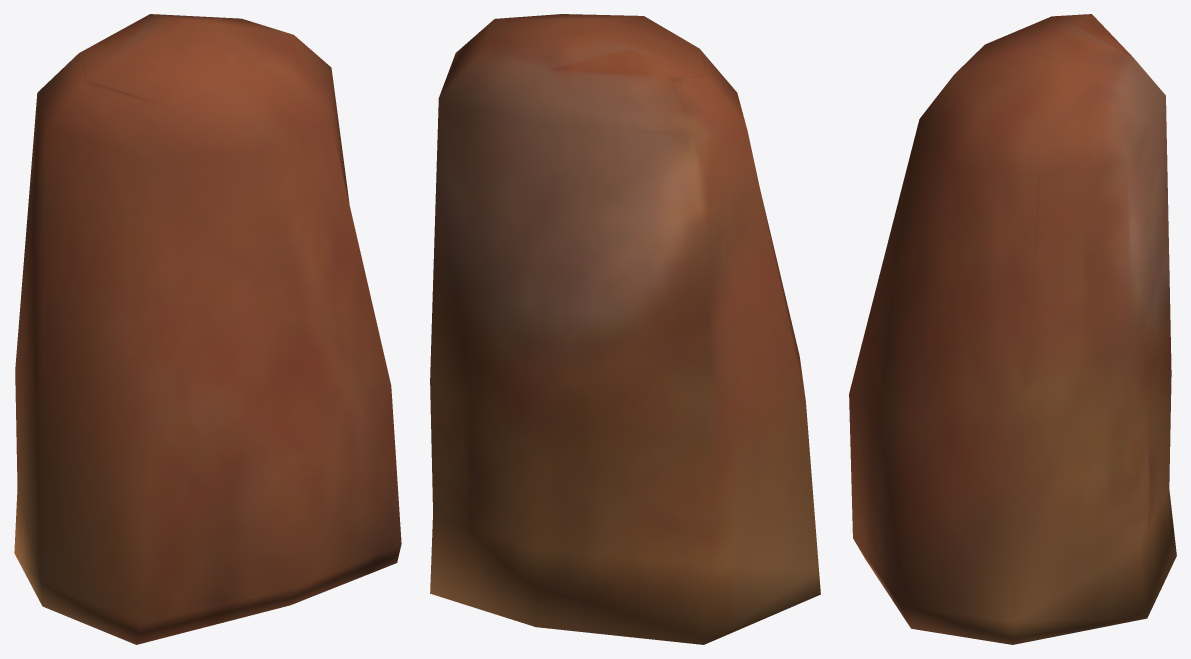
Rendered from middle_03_l.dae.
The picture shows the model from 3 angles, left to right: view 1: azimuth 30°, elevation 25°; view 2: azimuth 150°, elevation 25°; view 3: azimuth 270°, elevation 25°; orthographic projection. The views are drawn at different scales.
Parts seen in each view (by area): view 1: middle_3_l; view 2: middle_3_l; view 3: middle_3_l.
Part boxes in pixels (box(x1,y1,x2,y2)): middle_3_l: box(14, 14, 401, 644); middle_3_l: box(430, 14, 820, 644); middle_3_l: box(849, 14, 1176, 644).
Size of the model in its own units: 0.0193 by 0.0159 by 0.0288.
Materials: 1 (1 with a texture image).
